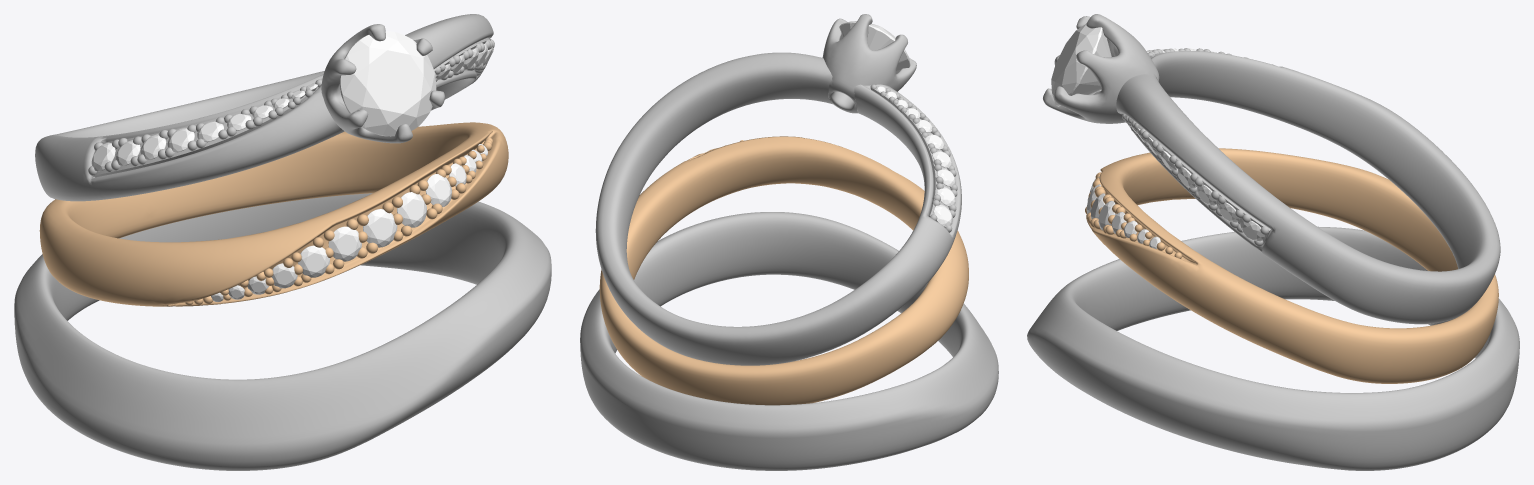
File: ring.glb
3 renders of one model, left to right at view 1: azimuth 30°, elevation 25°; view 2: azimuth 150°, elevation 25°; view 3: azimuth 270°, elevation 25°, orthographic. The views are drawn at different scales.
Parts seen in each view (by area): view 1: object_1_Retopo, weddingring-lady, soli_metal, gemcenter, Brillant_1, Brillant_002, Brillant_003, Brillant_006, Brillant_004; view 2: object_1_Retopo, soli_metal, weddingring-lady, gemcenter; view 3: object_1_Retopo, soli_metal, weddingring-lady, gemcenter.
Part boxes in pixels (x1,y1,x2,y2): object_1_Retopo: [14, 193, 551, 470]; weddingring-lady: [39, 122, 508, 306]; soli_metal: [35, 14, 493, 201]; gemcenter: [340, 31, 436, 136]; Brillant_1: [363, 209, 397, 247]; Brillant_002: [328, 226, 361, 261]; Brillant_003: [397, 192, 426, 227]; Brillant_006: [298, 245, 329, 277]; Brillant_004: [425, 174, 451, 207]; object_1_Retopo: [580, 212, 998, 470]; soli_metal: [595, 14, 961, 365]; weddingring-lady: [599, 136, 968, 405]; gemcenter: [839, 21, 910, 73]; object_1_Retopo: [1027, 226, 1519, 470]; soli_metal: [1043, 14, 1500, 324]; weddingring-lady: [1086, 148, 1498, 383]; gemcenter: [1051, 23, 1111, 106].
Bounding box in the file's own units: 2.43 × 2.06 × 2.43.
